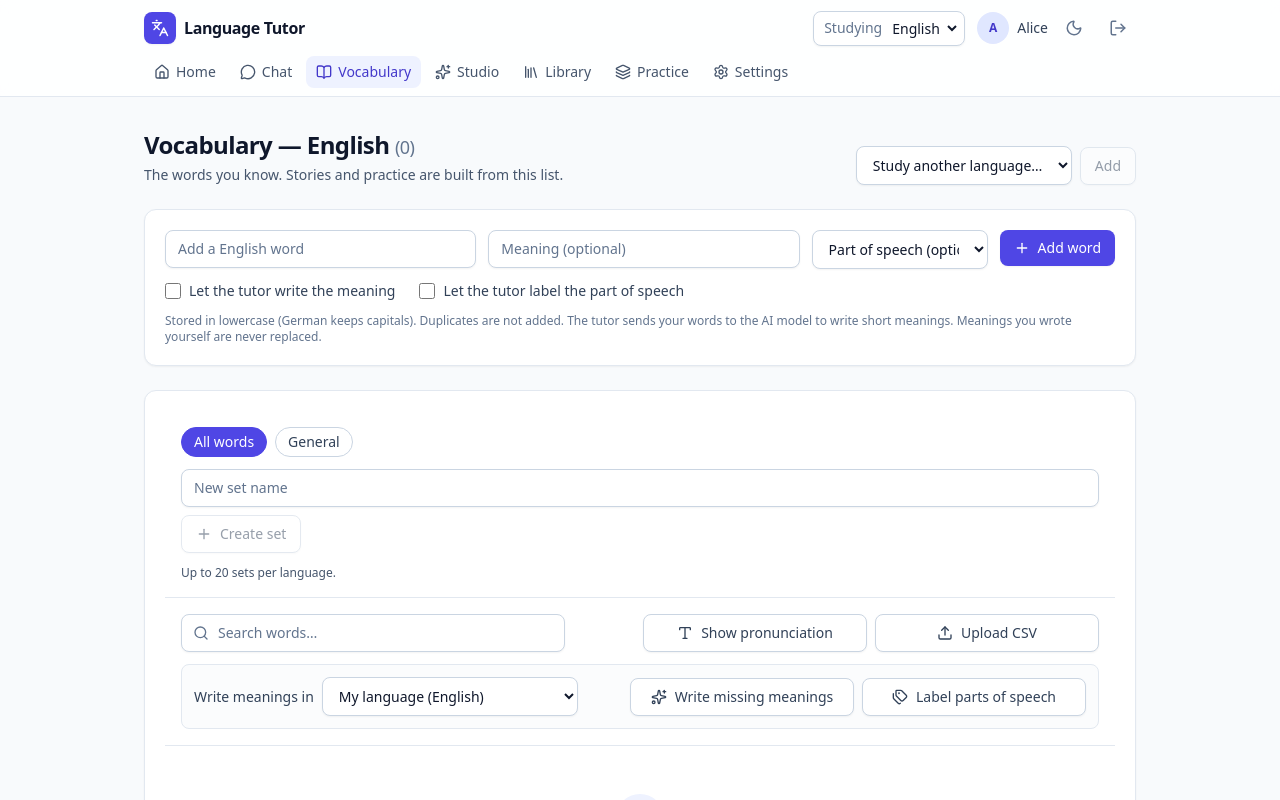
it: vocabulary page › adds a new language and switches to it
Select "Español" in the dropdown named "Language to start" at x=964, y=166, box [856, 146, 1072, 185]
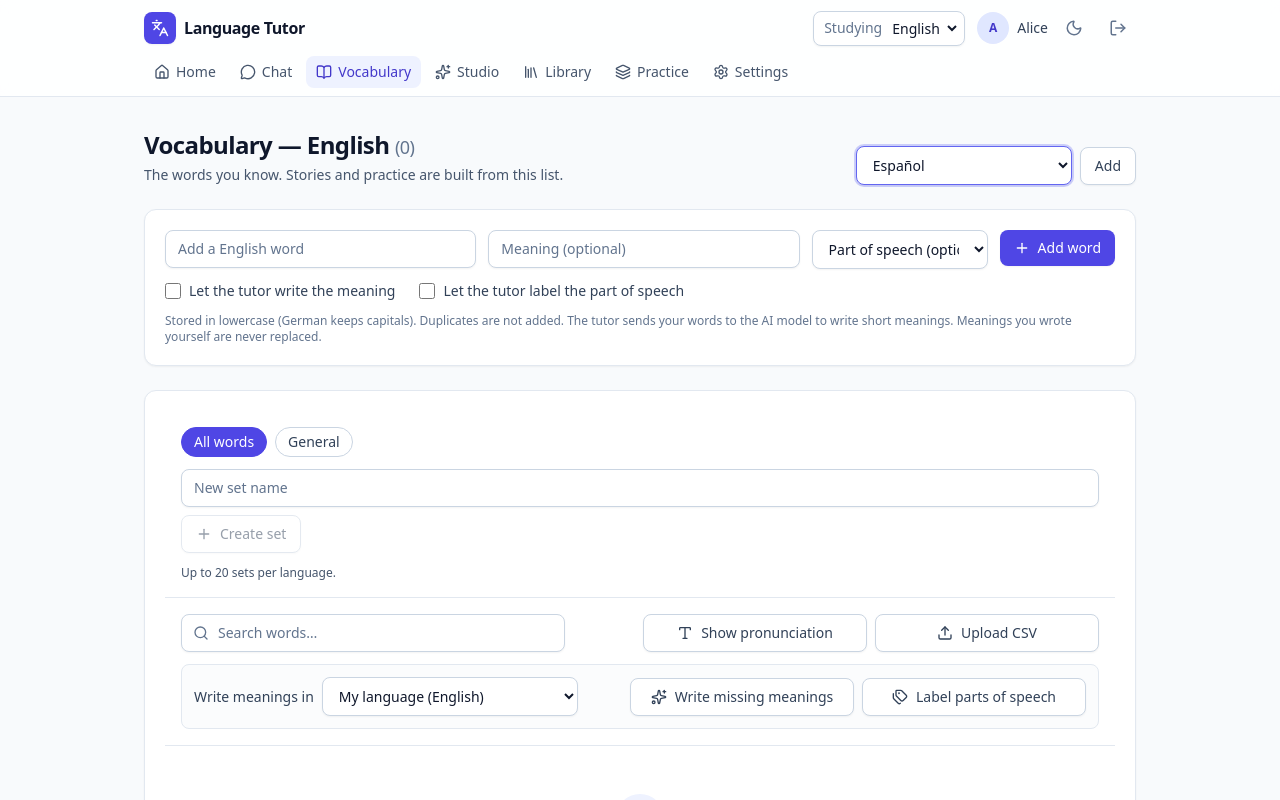
Click the button "Add" at x=1108, y=166, box [1080, 146, 1136, 184]
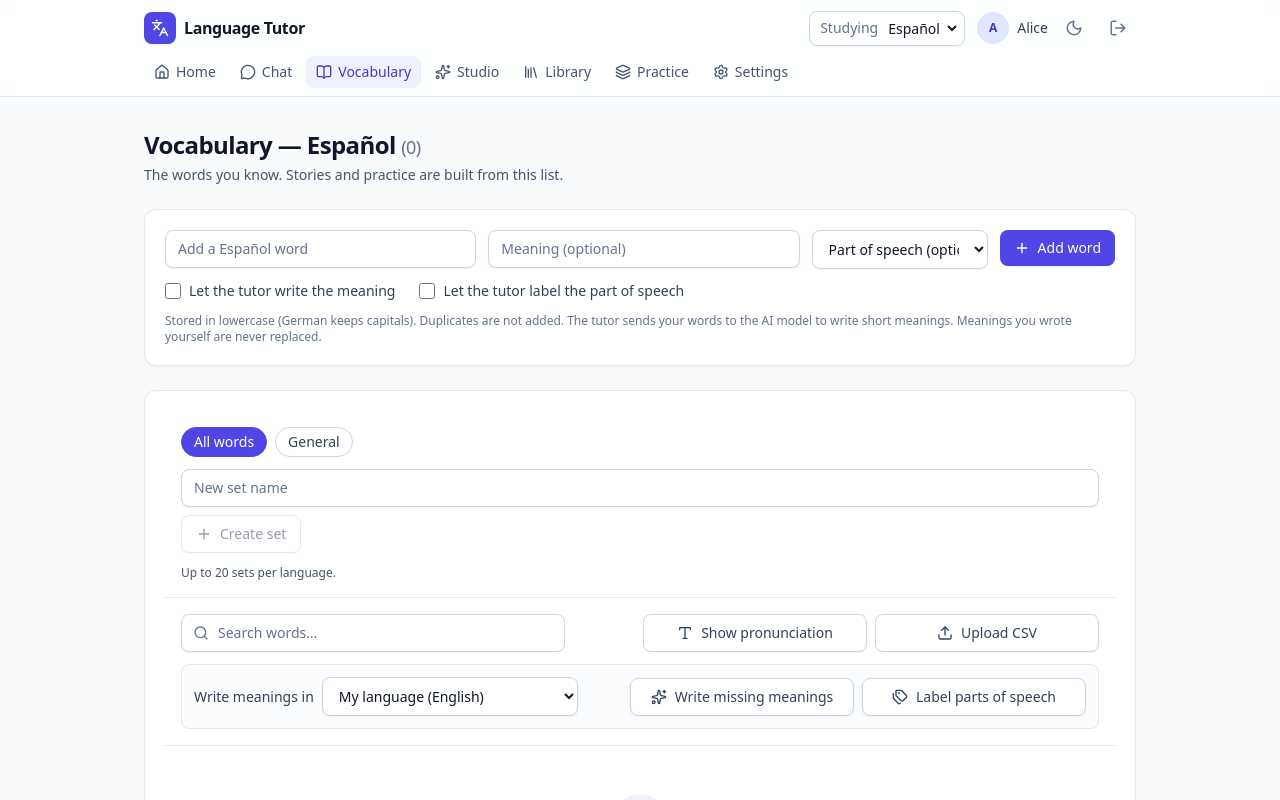
Check: the dropdown named "Active language" shows "Español", box [884, 16, 960, 40]
